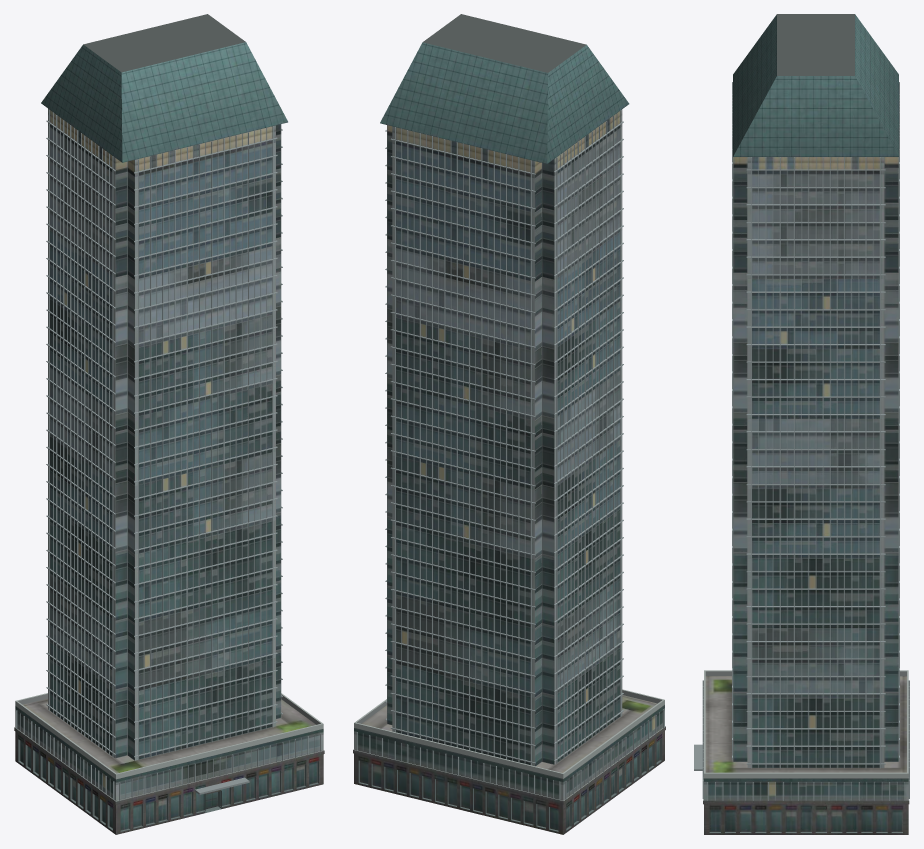
The model's file is seattle_glasstower_b.glb.
3 renders of one model, left to right at view 1: azimuth 30°, elevation 25°; view 2: azimuth 150°, elevation 25°; view 3: azimuth 270°, elevation 25°, orthographic.
Visible parts, largest first — view 1: seattle_glasstower_b; view 2: seattle_glasstower_b; view 3: seattle_glasstower_b.
Boxes of the visible parts, left/top/right/bottom form: seattle_glasstower_b: left=14, top=14, right=324, bottom=834; seattle_glasstower_b: left=353, top=14, right=665, bottom=834; seattle_glasstower_b: left=694, top=14, right=909, bottom=834.
Size of the model in its own units: 50.48 by 167 by 44.24.
1 material, 1 textured.
